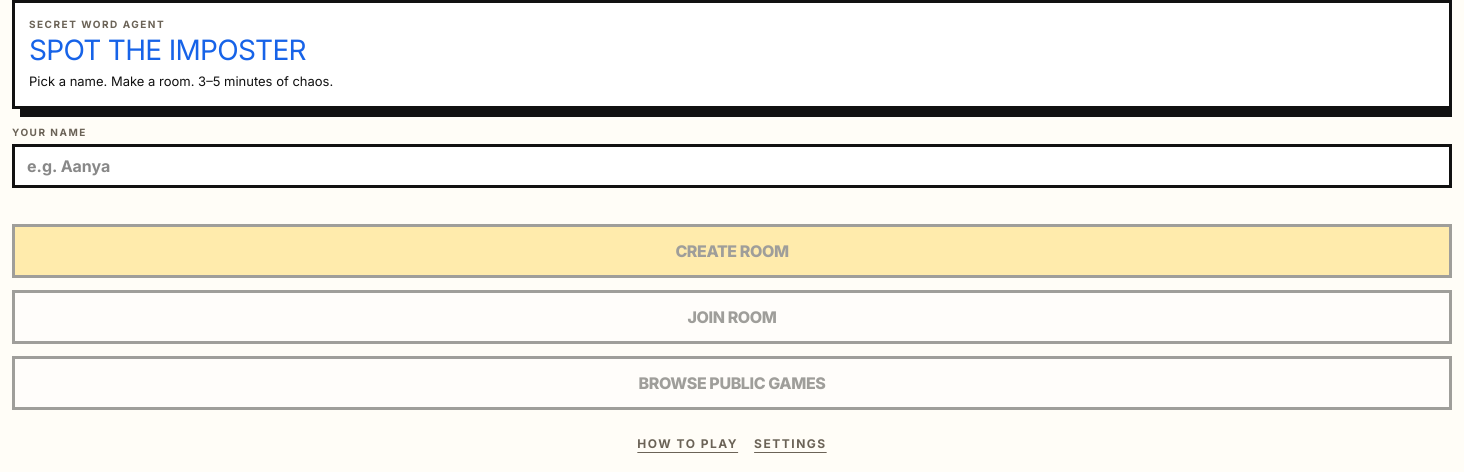
Landing › shows an error after blur on an invalid name
Type "A" into the field labelled "Your name".
click(732, 166); type("A")  # box [12,144,1452,188]
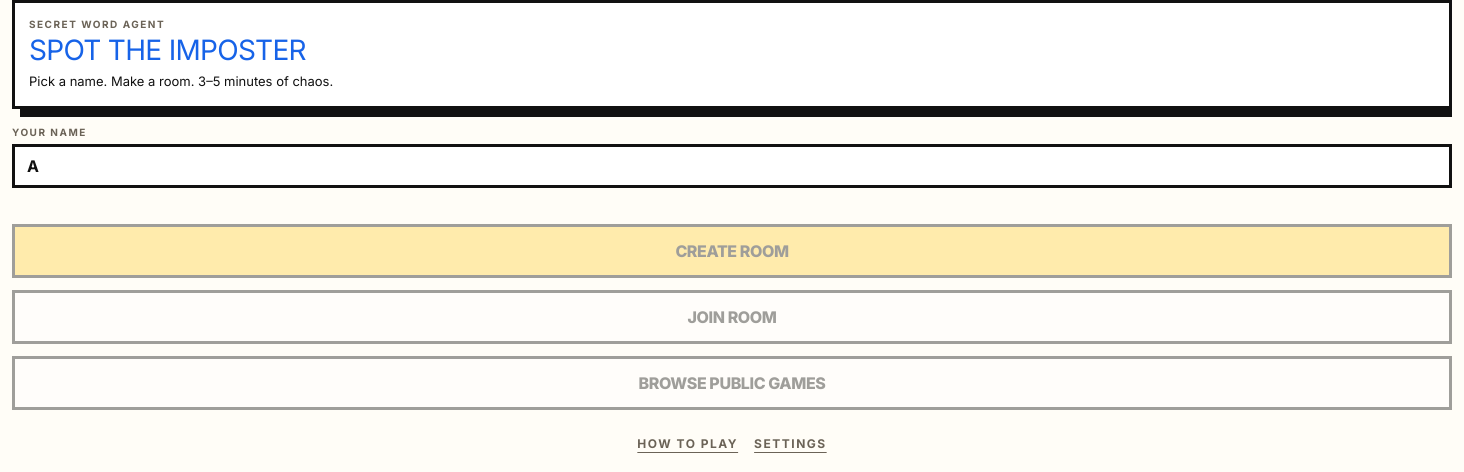
Leave the field labelled "Your name", box [12,144,1452,188]
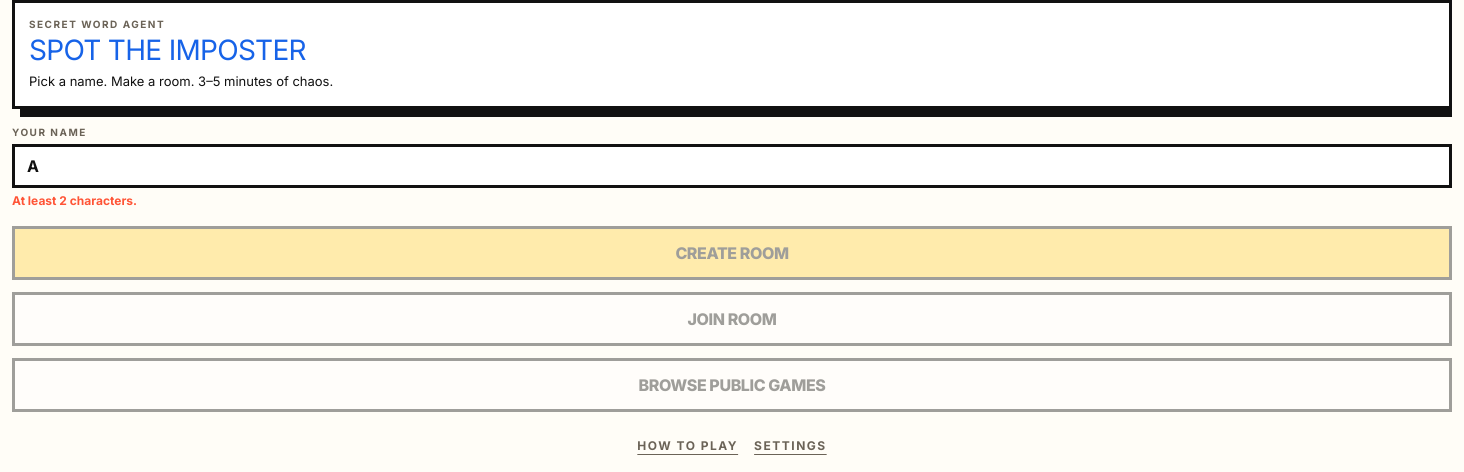
Now the message shows "At least 2", box [12,192,137,208]
